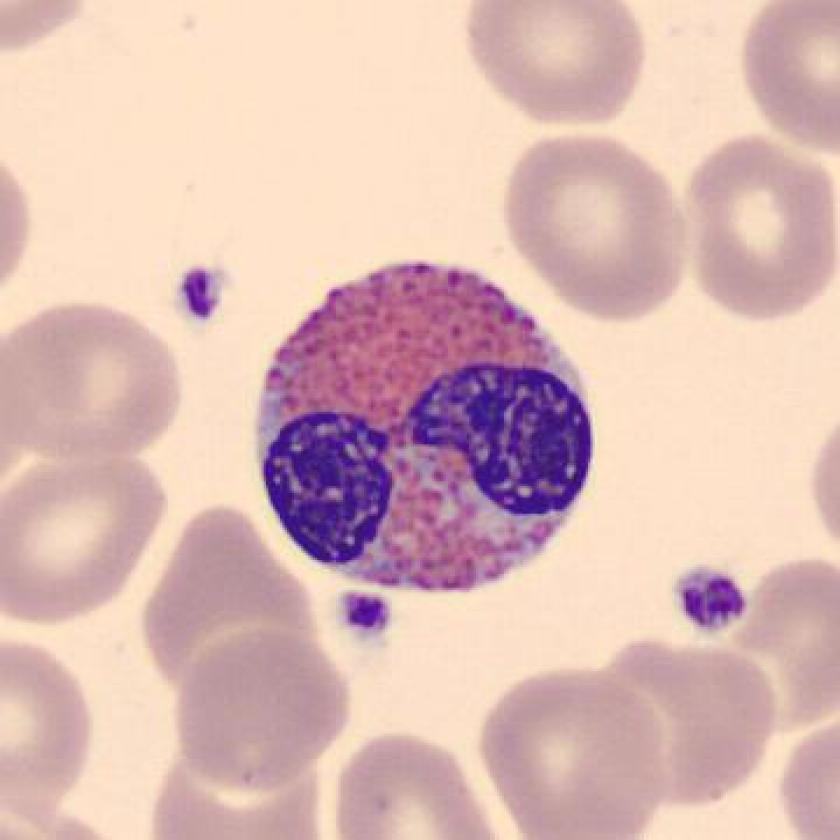eosinophil: (242, 247, 606, 608)
